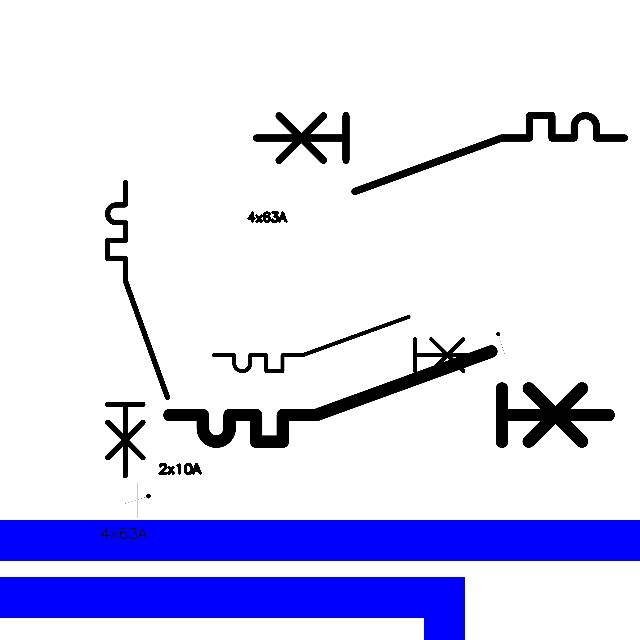interruptor_termomagnetico: (158, 340, 620, 453), (247, 106, 634, 201), (100, 175, 175, 483), (207, 310, 486, 378)
